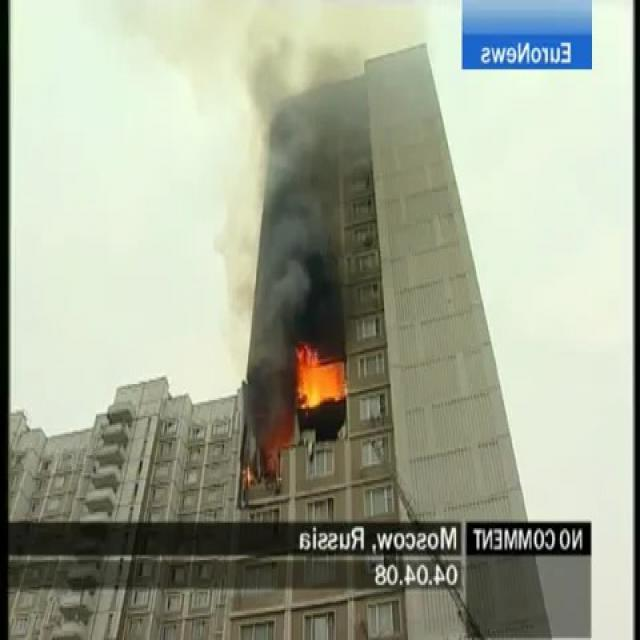fire: (292, 346, 348, 419)
